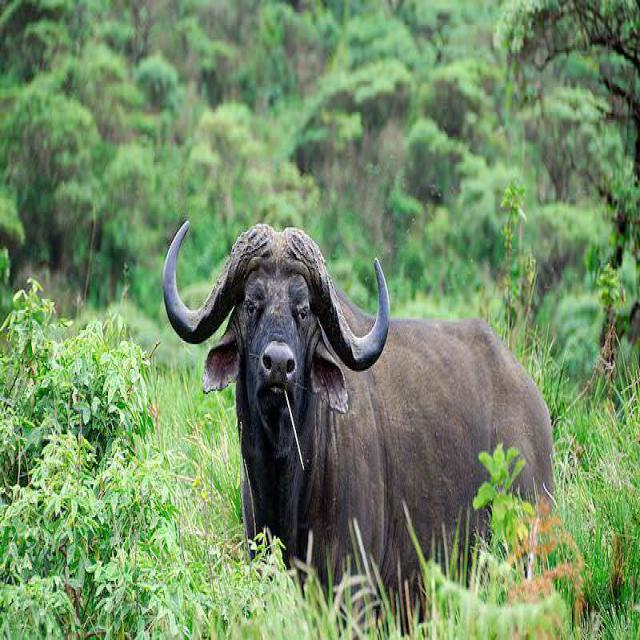Buffalo: (172, 207, 574, 566)
